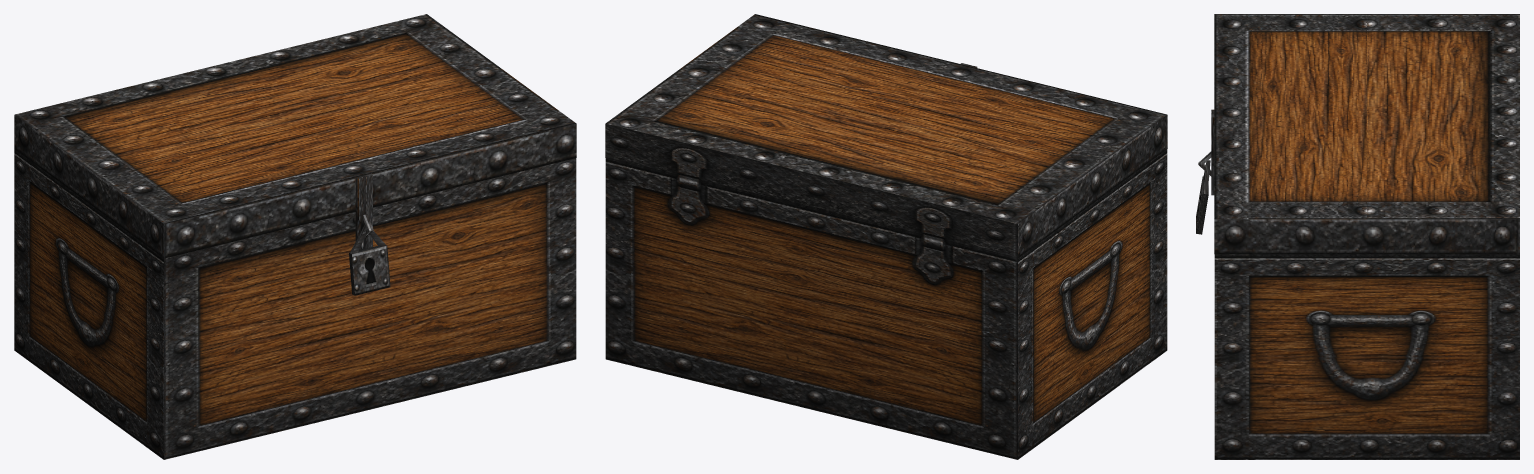
Rendered from mm9_deco_chest.glb.
3 renders of one model, left to right at view 1: azimuth 30°, elevation 25°; view 2: azimuth 150°, elevation 25°; view 3: azimuth 270°, elevation 25°, orthographic. The views are drawn at different scales.
Visible parts, largest first — view 1: Chest; view 2: Chest; view 3: Chest.
Boxes of the visible parts, bbox=[...] form: Chest: bbox=[14, 14, 576, 459]; Chest: bbox=[605, 14, 1167, 459]; Chest: bbox=[1196, 14, 1519, 459].
Size of the model in its own units: 1 by 0.5473 by 0.6674.
Materials: 2 (2 with a texture image).
